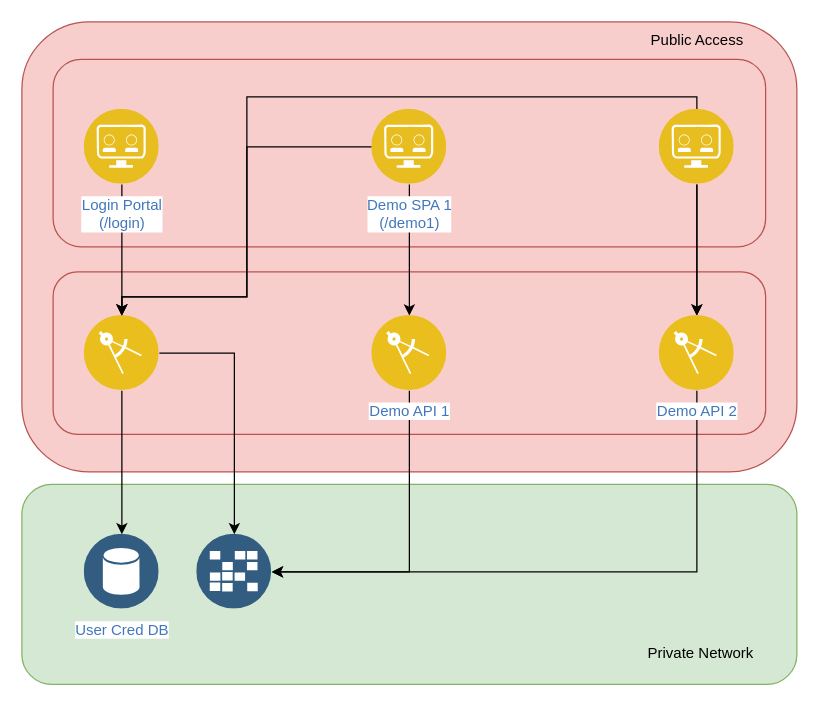
Some shapes in this 819 by 706 pixel diagram are drawn without their labels. The shapes that lost their labels are listed below. From the top down, each one's centre as x and y in pixels, then its label:
(x=696, y=146): Demo SPA 2 (/demo2)
(x=121, y=352): Auth API
(x=233, y=571): Redis
